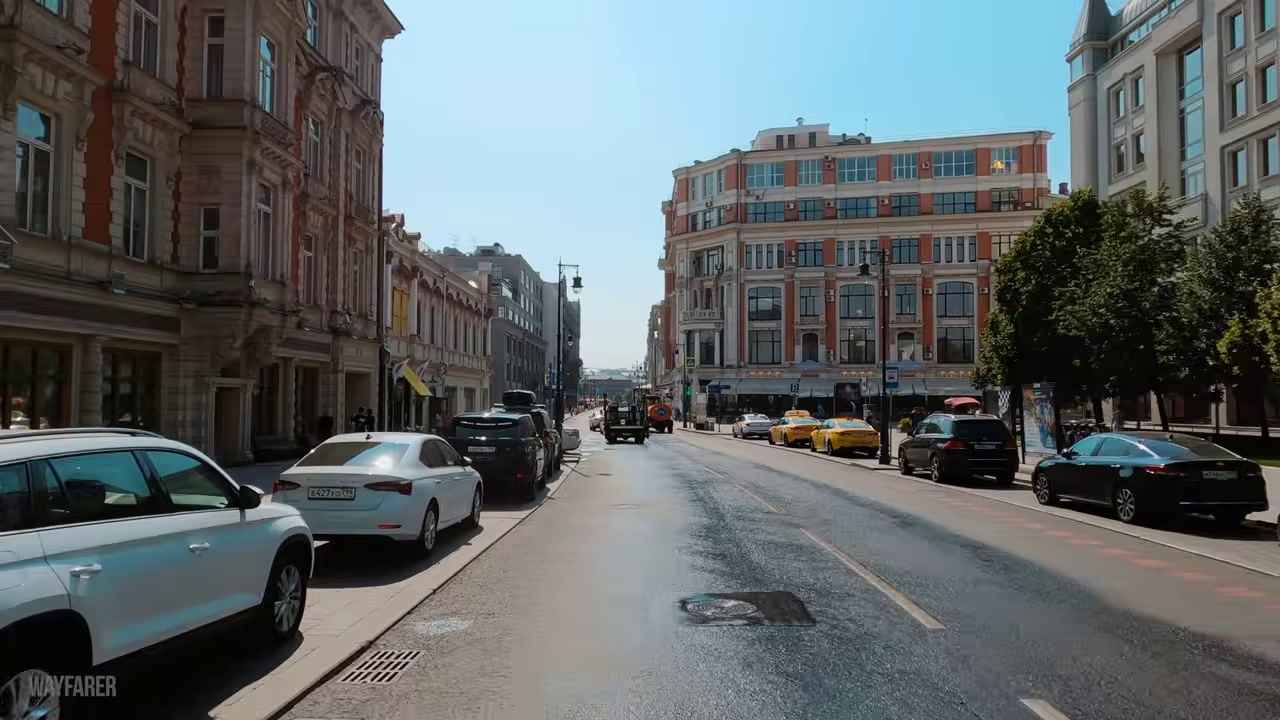apagada: (571, 274, 585, 294)
